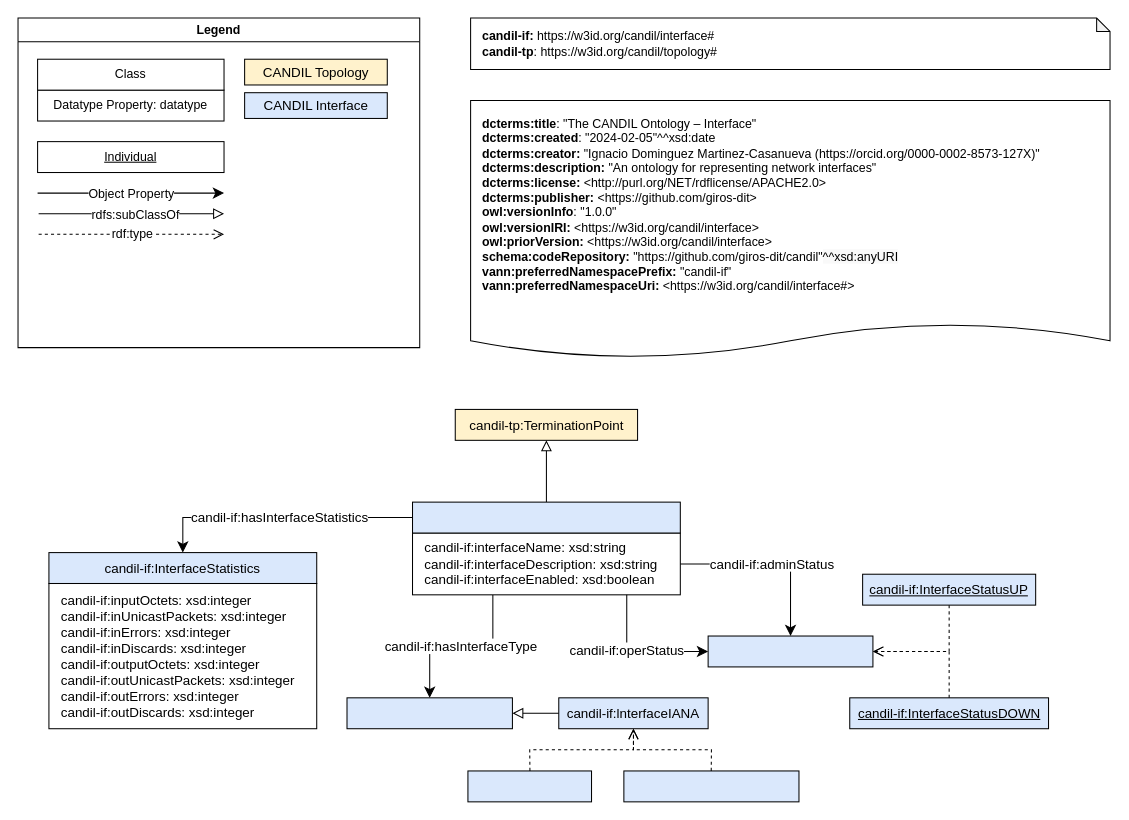
This 1129x820 diagram has some shape labels left out. The centre of each missing label's shape, as x and y in pixels:
candil-if:ethernetCsmacd: the point at 711,786
candil-if:Interface: the point at 545,517
candil-if:InterfaceStatus: the point at 790,651
candil-if:InterfaceType: the point at 429,713
candil-if:l2vlan: the point at 529,786
